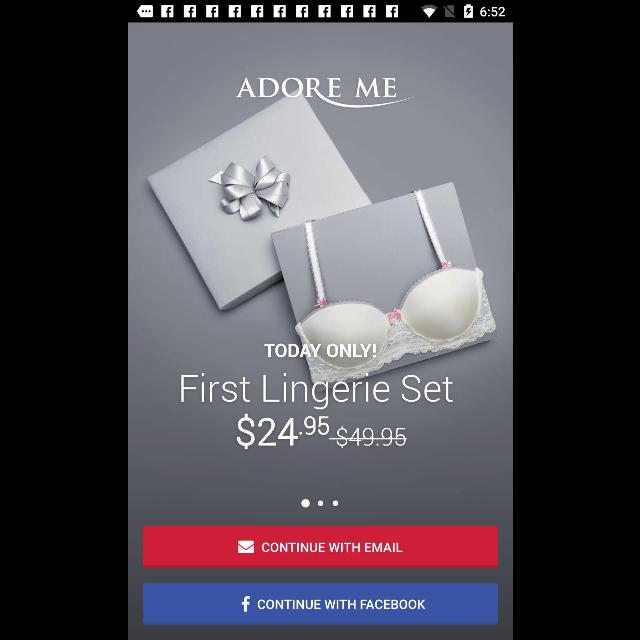backgroundimage: (128, 22, 512, 640)
image: (234, 78, 413, 109)
pageindicator: (300, 498, 338, 508)
text: (180, 374, 452, 450), (263, 344, 375, 358)
textbutton: (142, 526, 498, 568), (142, 583, 498, 625)
uppertaskbar: (128, 1, 512, 23)
